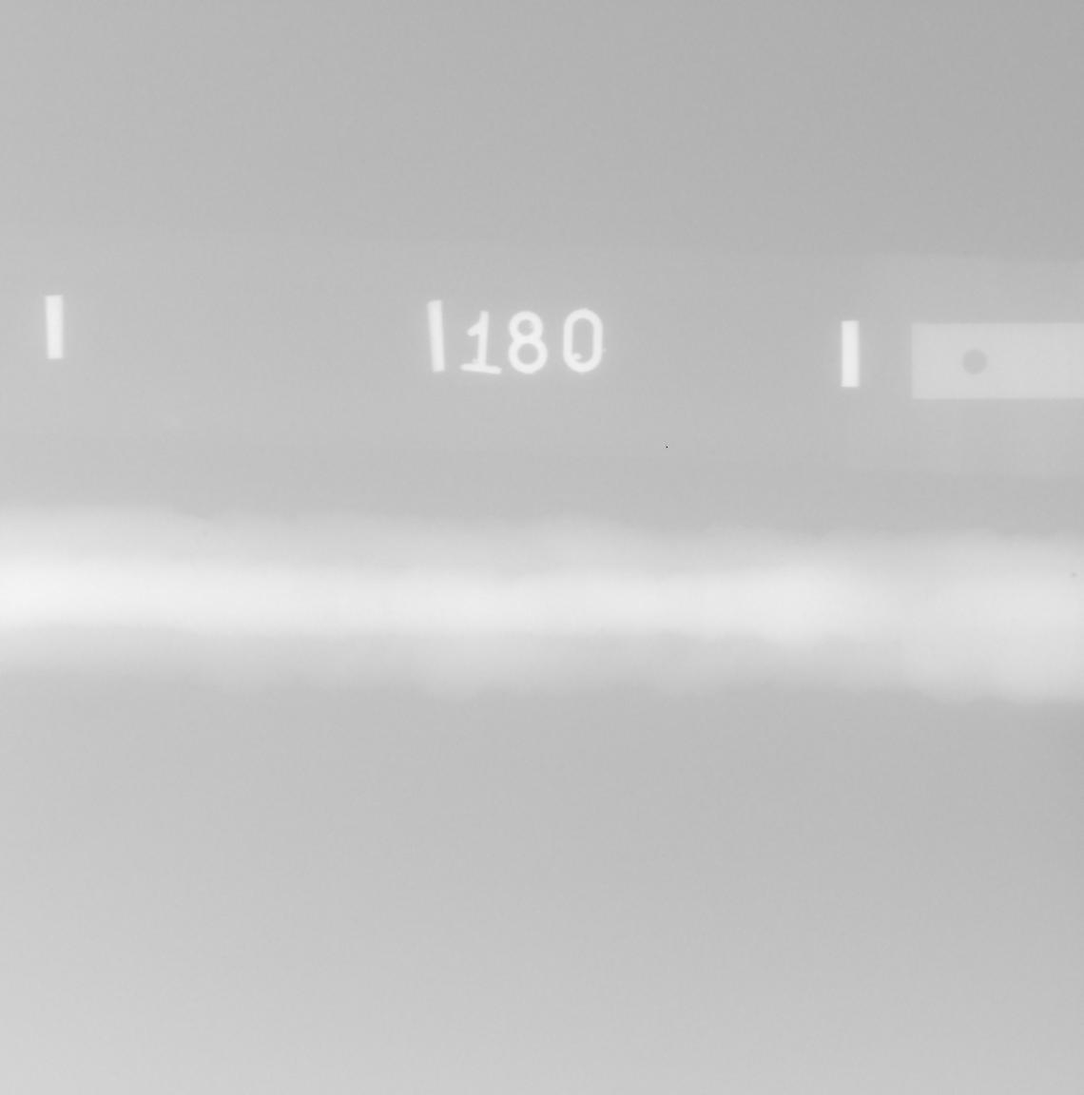Pore/Porosity: (1008, 616, 1017, 623), (174, 619, 181, 625), (202, 532, 208, 537), (1071, 572, 1077, 577), (194, 532, 199, 536), (861, 644, 865, 648)
